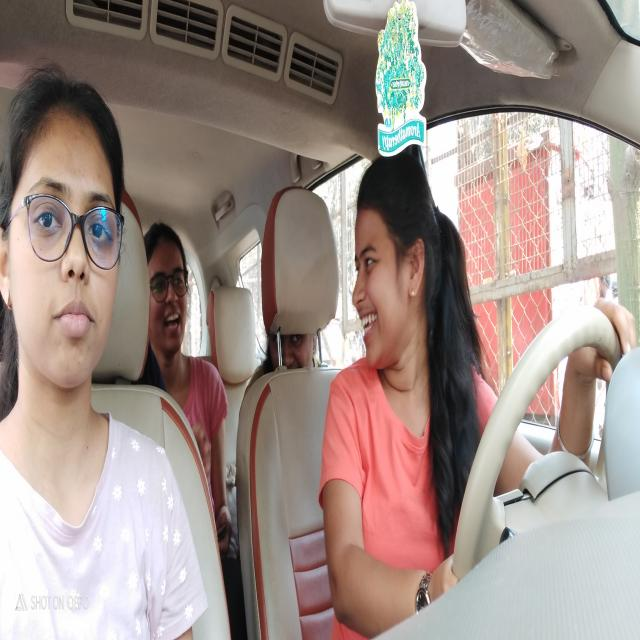LeftRight: (337, 144, 442, 416)
person: (1, 53, 133, 416), (142, 220, 195, 380)
talking: (356, 305, 382, 341)
